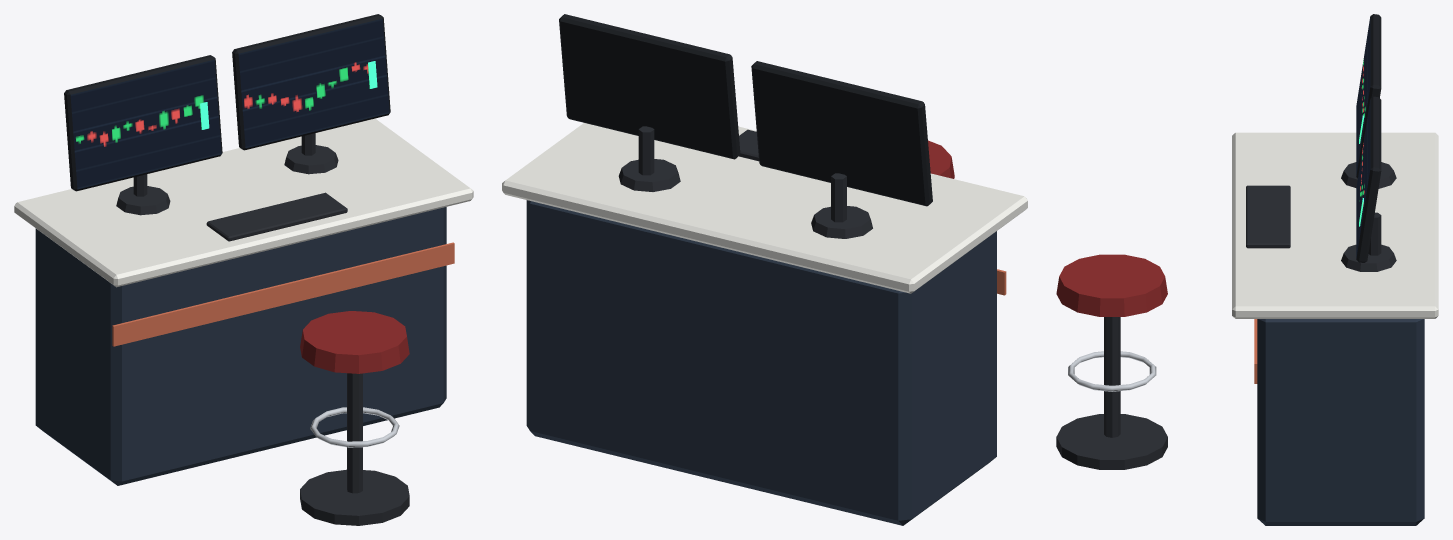
File: broker_desk.glb
3 views of the same model, side by side, from view 1: azimuth 30°, elevation 25°; view 2: azimuth 150°, elevation 25°; view 3: azimuth 270°, elevation 25° (orthographic). The views are drawn at different scales.
Parts seen in each view (by area): view 1: kiosk, stool; view 2: kiosk, stool; view 3: kiosk, stool.
Boxes of the visible parts, x1=… form: kiosk: x1=14, y1=14, x2=473, y2=485; stool: x1=300, y1=311, x2=409, y2=525; kiosk: x1=502, y1=14, x2=1027, y2=525; stool: x1=928, y1=140, x2=954, y2=178; kiosk: x1=1232, y1=14, x2=1438, y2=525; stool: x1=1056, y1=254, x2=1167, y2=469.
Size of the model in its own units: 1.5 by 1.41 by 1.37.
Materials: 10 (2 with a texture image).
